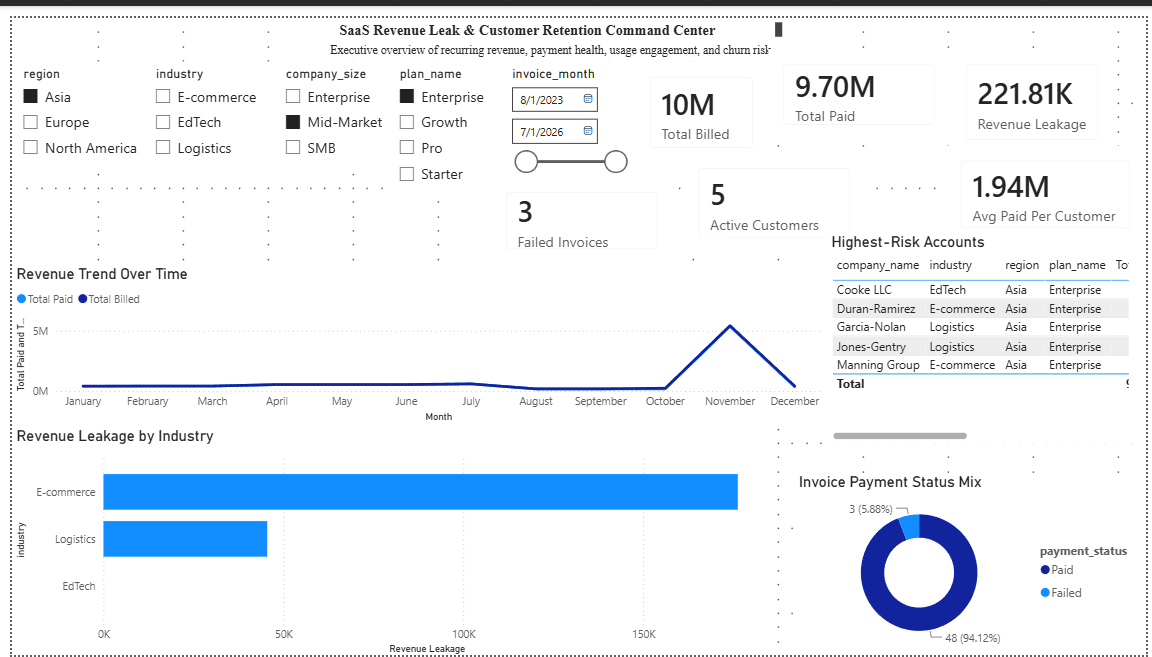

The dashboard page shown, as its layout file describes it:
{"tool":"powerbi","page":{"name":"Page 1","canvas":[1280,720],"ordinal":0},"visuals":[{"type":"textbox","box":[294.5,0,574.9,35.1],"z":0},{"type":"textbox","box":[352,21,517.4,28],"z":1},{"type":"slicer","fields":{"Values":["customers.region"]},"box":[0,49.1,162.7,119.2],"z":2},{"type":"slicer","fields":{"Values":["customers.industry"]},"box":[148.6,49.1,145.8,204.7],"z":3},{"type":"slicer","fields":{"Values":["customers.company_size"]},"box":[294.5,49.1,150,119.2],"z":4},{"type":"slicer","fields":{"Values":["subscriptions.plan_name"]},"box":[422.1,49.1,150,151.4],"z":5},{"type":"slicer","fields":{"Values":["invoices.invoice_month"]},"box":[548.3,49.1,150,151.4],"z":6},{"type":"cardVisual","fields":{"Data":["invoices.Total Billed"]},"box":[698.3,49.1,150,115],"z":7},{"type":"cardVisual","fields":{"Data":["invoices.Total Paid"]},"box":[848.4,35.1,204.7,102.4],"z":8},{"type":"cardVisual","fields":{"Data":["invoices.Revenue Leakage"]},"box":[1053.1,35.1,182.3,119.2],"z":9},{"type":"cardVisual","fields":{"Data":["customers.Active Customers"]},"box":[753,151.4,204.7,112.2],"z":10},{"type":"cardVisual","fields":{"Data":["invoices.Failed Invoices"]},"box":[537.1,178.1,204.7,98.2],"z":11},{"type":"lineChart","title":"Revenue Trend Over Time","fields":{"Category":["invoices.invoice_month.Variation.Date Hierarchy.Month"],"Y":["invoices.Total Paid","invoices.Total Billed"]},"box":[0,276.2,914.3,182.3],"z":13},{"type":"clusteredBarChart","title":"Revenue Leakage by Industry","fields":{"Category":["customers.industry","customers.region"],"Y":["invoices.Revenue Leakage"]},"box":[0,458.5,848.4,260.8],"z":14},{"type":"donutChart","title":"Invoice Payment Status Mix","fields":{"Category":["invoices.payment_status"],"Y":["CountNonNull(invoices.invoice_id)"]},"box":[877.8,510.4,394,204.7],"z":15},{"type":"cardVisual","fields":{"Data":["invoices.Avg Paid Per Customer"]},"box":[1047.5,143,224.4,110.8],"z":18},{"type":"tableEx","title":"Highest-Risk Accounts","fields":{"Values":["customers.company_name","customers.industry","customers.region","subscriptions.plan_name","invoices.Total Billed","invoices.Total Paid","invoices.Revenue Leakage","usage_monthly.Avg Feature Adoption"]},"box":[914.3,241.2,343.6,237],"z":19}]}

Visuals, with their boxes in screenshot pixels (x1, y1, x2, y2), scaled from the page's 1280x720 canvas onto the 1152x657 screenshot:
textbox: <bbox>265, 0, 782, 32</bbox>
textbox: <bbox>317, 19, 782, 45</bbox>
slicer - customers.region: <bbox>0, 45, 146, 154</bbox>
slicer - customers.industry: <bbox>134, 45, 265, 232</bbox>
slicer - customers.company_size: <bbox>265, 45, 400, 154</bbox>
slicer - subscriptions.plan_name: <bbox>380, 45, 515, 183</bbox>
slicer - invoices.invoice_month: <bbox>493, 45, 628, 183</bbox>
cardVisual - invoices.Total Billed: <bbox>628, 45, 763, 150</bbox>
cardVisual - invoices.Total Paid: <bbox>764, 32, 948, 125</bbox>
cardVisual - invoices.Revenue Leakage: <bbox>948, 32, 1112, 141</bbox>
cardVisual - customers.Active Customers: <bbox>678, 138, 862, 241</bbox>
cardVisual - invoices.Failed Invoices: <bbox>483, 163, 668, 252</bbox>
"Revenue Trend Over Time" lineChart: <bbox>0, 252, 823, 418</bbox>
"Revenue Leakage by Industry" clusteredBarChart: <bbox>0, 418, 764, 656</bbox>
"Invoice Payment Status Mix" donutChart: <bbox>790, 466, 1145, 653</bbox>
cardVisual - invoices.Avg Paid Per Customer: <bbox>943, 130, 1145, 232</bbox>
"Highest-Risk Accounts" tableEx: <bbox>823, 220, 1132, 436</bbox>
